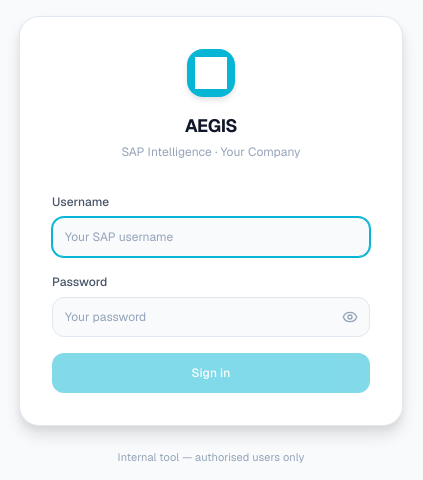
Test case: LoginPage › keeps the submit button disabled until both fields are non-empty
The image size is (423, 480).
Expected: the button "Sign in" is disabled, [52,353,370,393]
Type "jdoe" into the field labelled "Username" at (211, 237), box [52,217,370,257]
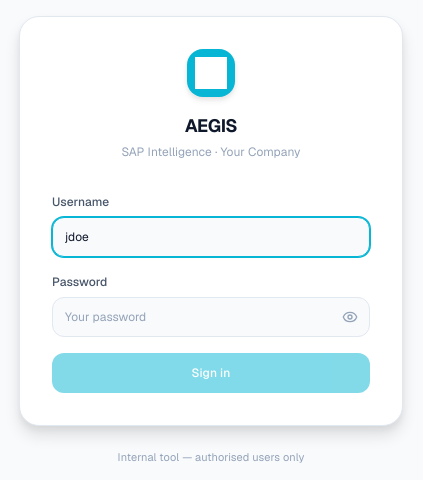
Expected: the button "Sign in" is disabled, [52,353,370,393]
Type "hunter2" into the password field labelled "Password" at (211, 317), box [52,297,370,337]
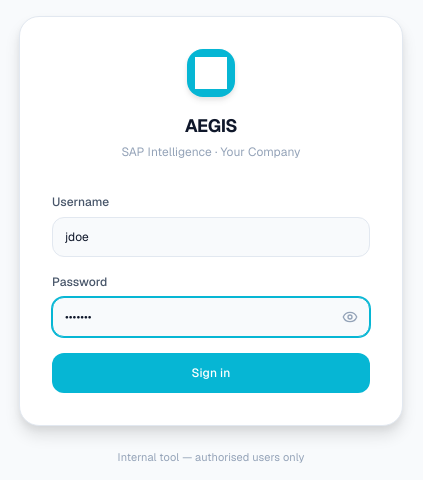
Expected: the button "Sign in" is enabled, [52,353,370,393]
